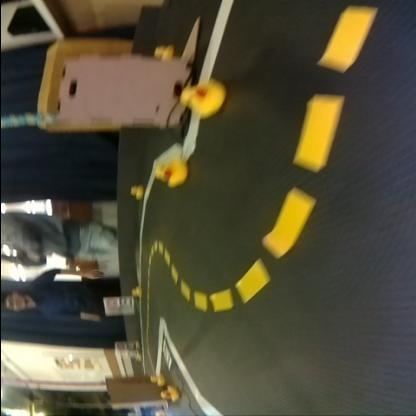Duckie: (180, 80, 223, 115), (157, 159, 185, 185), (154, 44, 170, 60), (160, 386, 176, 399), (128, 186, 142, 198), (148, 373, 162, 384), (130, 288, 139, 294)
